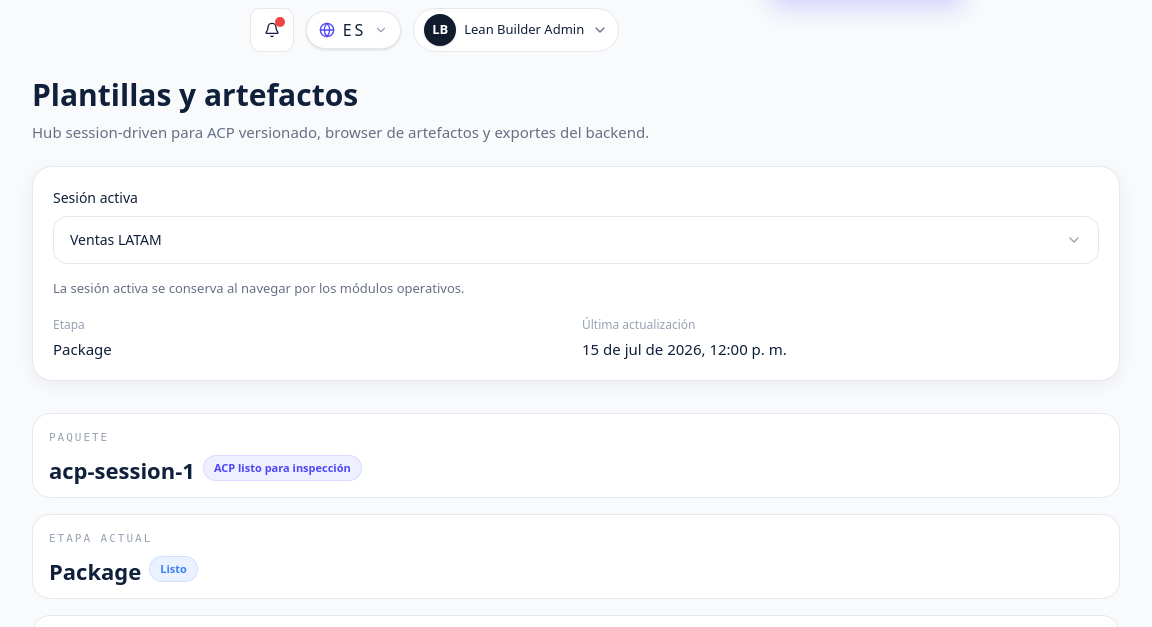
Test case: phase 6 cross-session workspaces › reloads templates when the selected session changes
The image size is (1152, 627).
Select "Soporte TI" in the dropdown with test id "operations-session-select" at coordinates (576, 240), box [54,216,1098,262]
(page scrolled)
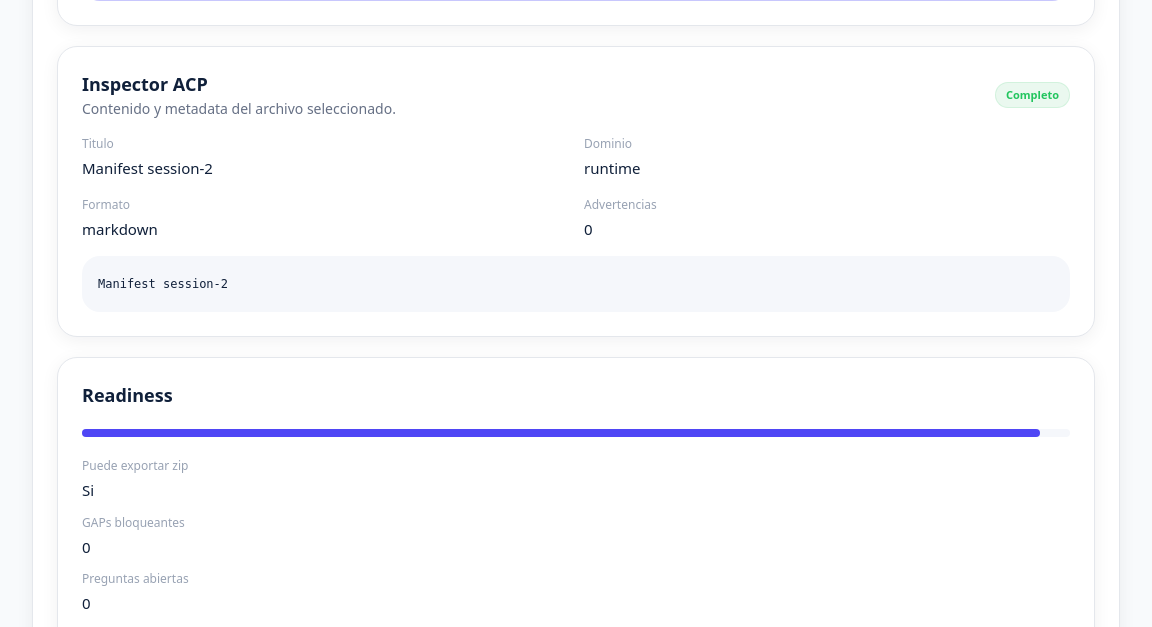
Expected: the text with test id "templates-selected-file-content" reads "Manifest session-2", [98,277,228,291]
